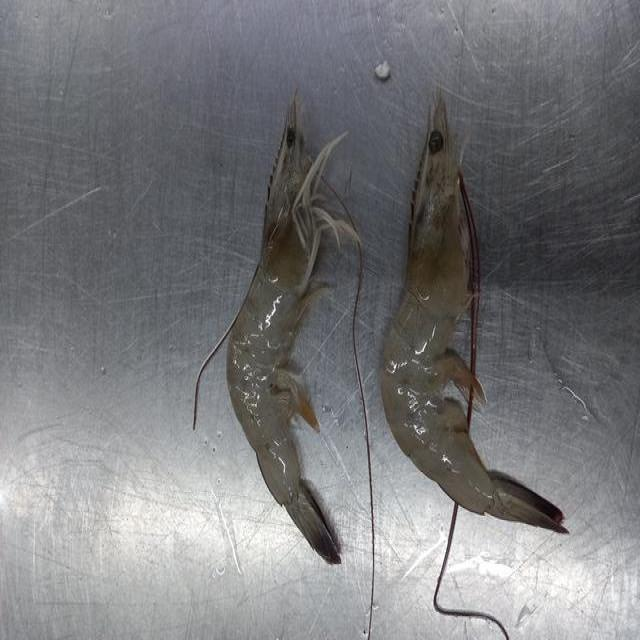shrimp: (381, 93, 568, 532), (226, 93, 359, 563)
